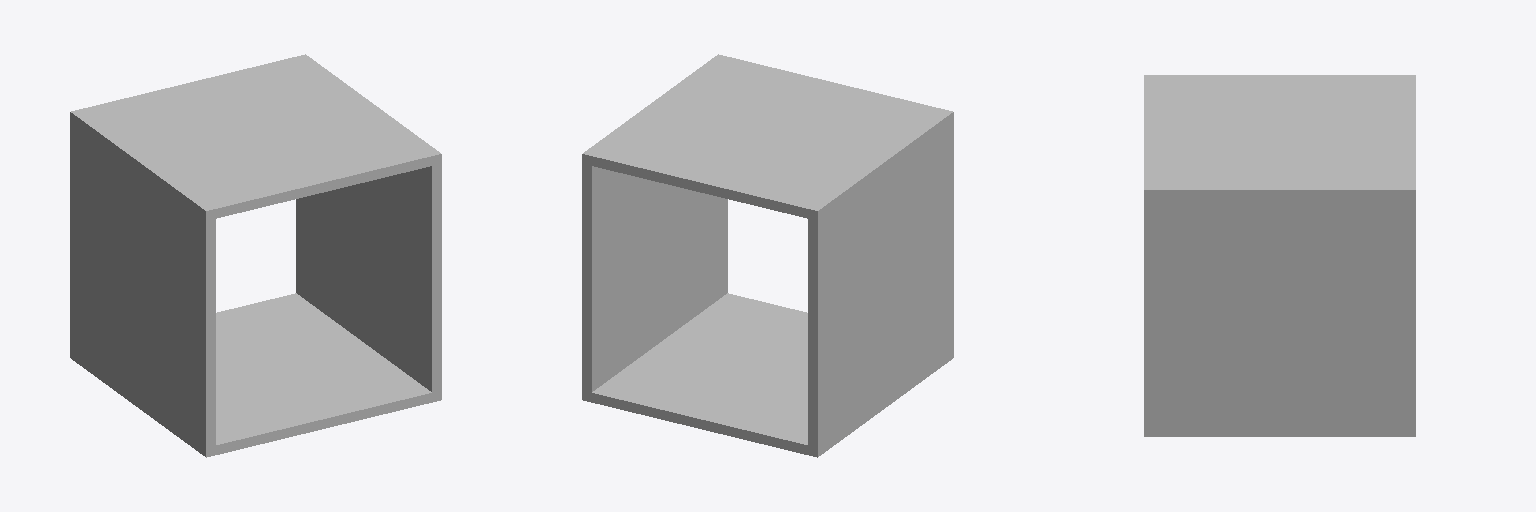
File: coridor_straight.obj
The picture shows the model from 3 angles: view 1: azimuth 30°, elevation 25°; view 2: azimuth 150°, elevation 25°; view 3: azimuth 270°, elevation 25°; orthographic projection.
Visible parts, largest first — view 1: pillar, ceiling, Wall, floor; view 2: pillar, ceiling, Wall, floor; view 3: Wall, ceiling.
Part boxes in pixels (x1,y1,x2,y2): pillar: (70, 109, 215, 456); ceiling: (70, 55, 441, 220); Wall: (296, 54, 441, 400); floor: (70, 293, 441, 457); pillar: (808, 111, 953, 455); ceiling: (582, 55, 953, 219); Wall: (582, 54, 727, 400); floor: (582, 293, 953, 457); Wall: (1144, 186, 1415, 436); ceiling: (1144, 75, 1415, 199).
Size of the model in its own units: 5 by 5 by 5.